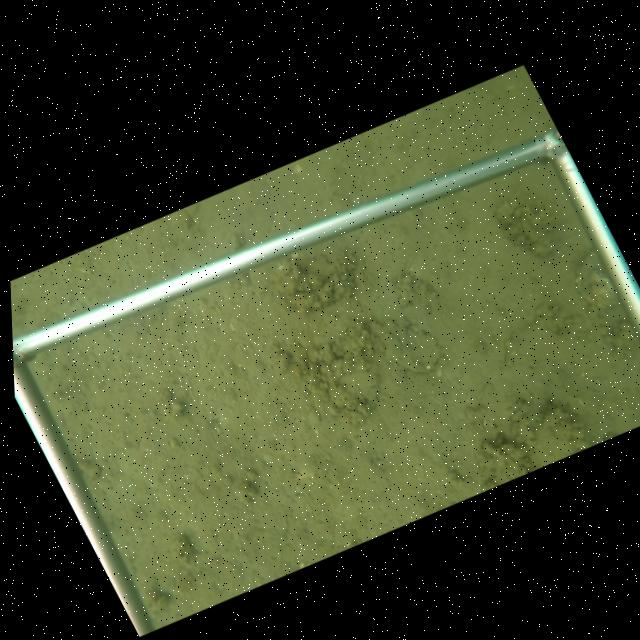Oyster-Indeterminate: (366, 315, 448, 378), (571, 246, 621, 313)
